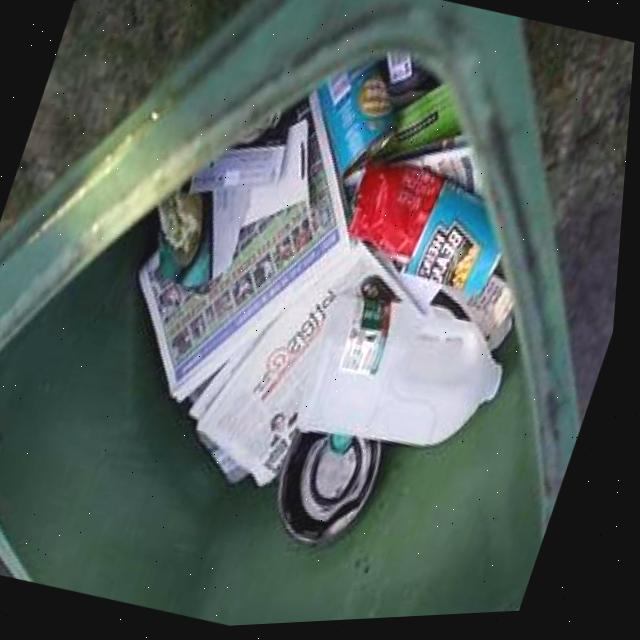Plastic: (286, 434, 388, 548)
Plastic_Bag: (352, 166, 445, 266)
Plastic_Container: (302, 297, 507, 449)
can: (411, 187, 504, 302), (318, 67, 396, 193)
